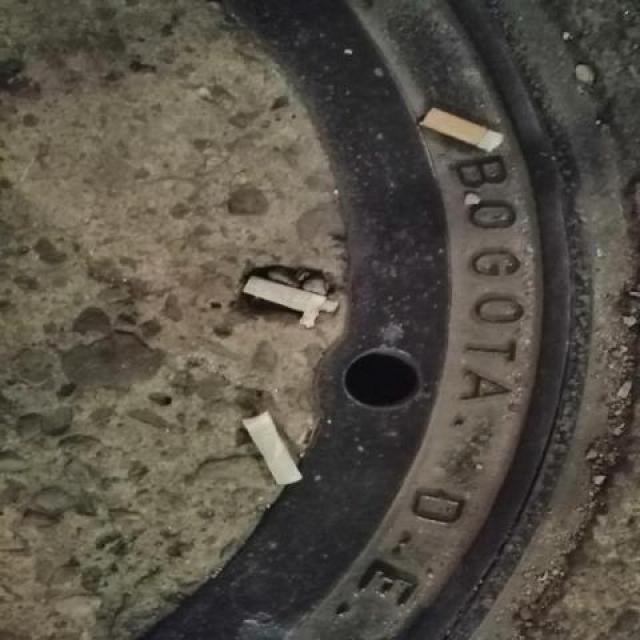non-organic waste: (242, 269, 346, 331), (239, 406, 305, 490), (414, 103, 506, 156)
